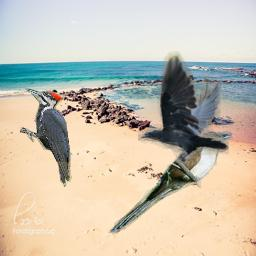Crow: (138, 51, 229, 163)
Cuckoo: (108, 130, 235, 238)
Woodpecker: (20, 88, 74, 187)
